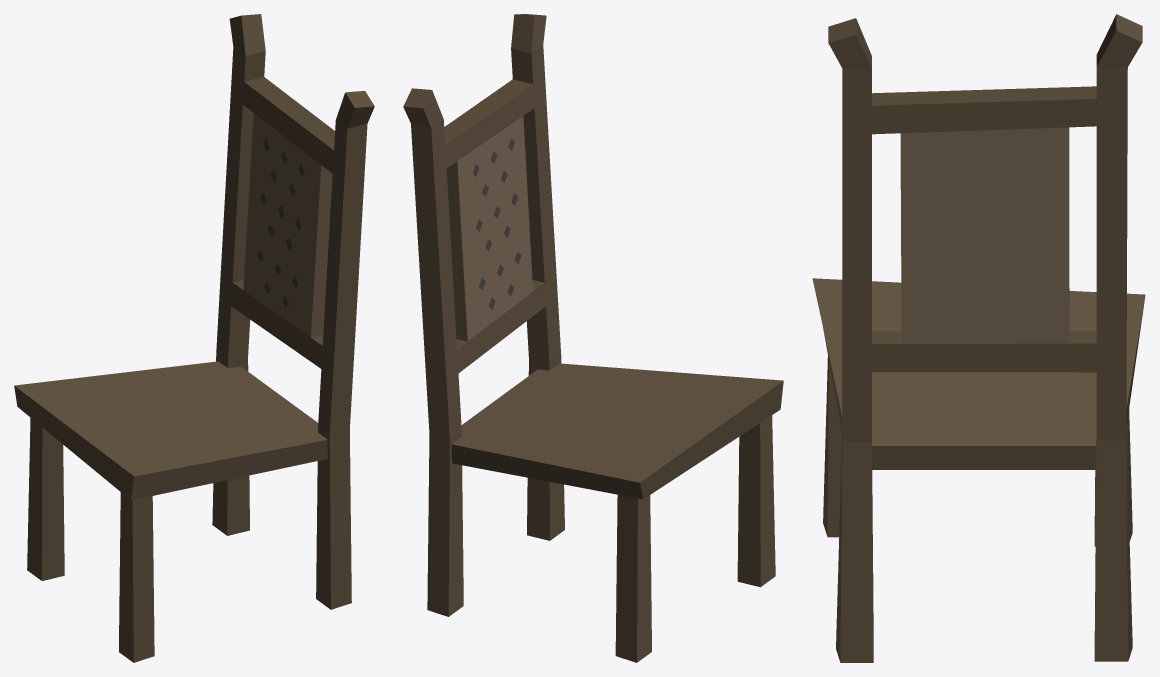
File: P_chair_01_LD.fbx
3 views of the same model, side by side, from view 1: azimuth 30°, elevation 25°; view 2: azimuth 150°, elevation 25°; view 3: azimuth 270°, elevation 25° (orthographic). The views are drawn at different scales.
Visible parts, largest first — view 1: P_chair_01; view 2: P_chair_01; view 3: P_chair_01.
Boxes of the visible parts, x1,y1,x2,y2 form: P_chair_01: (14,14,374,662); P_chair_01: (403,14,783,662); P_chair_01: (812,14,1145,662).
Bounding box in the file's own units: 0.5632 × 1.1 × 0.5143.
Materials: 1 (1 with a texture image).
